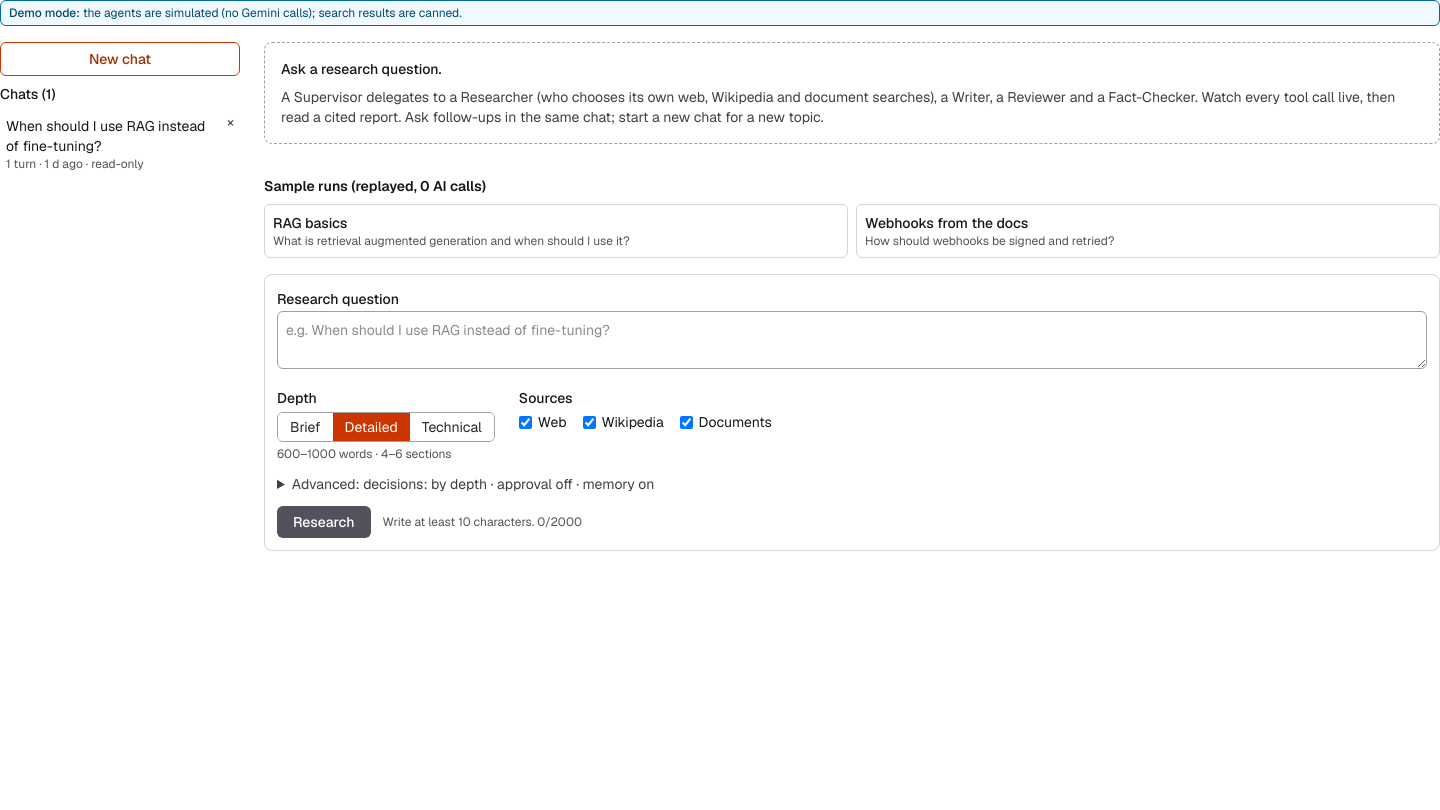
Test: chats › v2 history is imported as read-only chats; a question there starts a new chat
expect the heading "Chats (1)" is shown: met, box [0, 85, 56, 103]
expect the text "1 turn · 1 d ago · read-only" is shown: met, box [6, 156, 144, 172]
Click the link "When should I use RAG". click: (106, 126)
box: [0, 112, 217, 176]
(page scrolled)
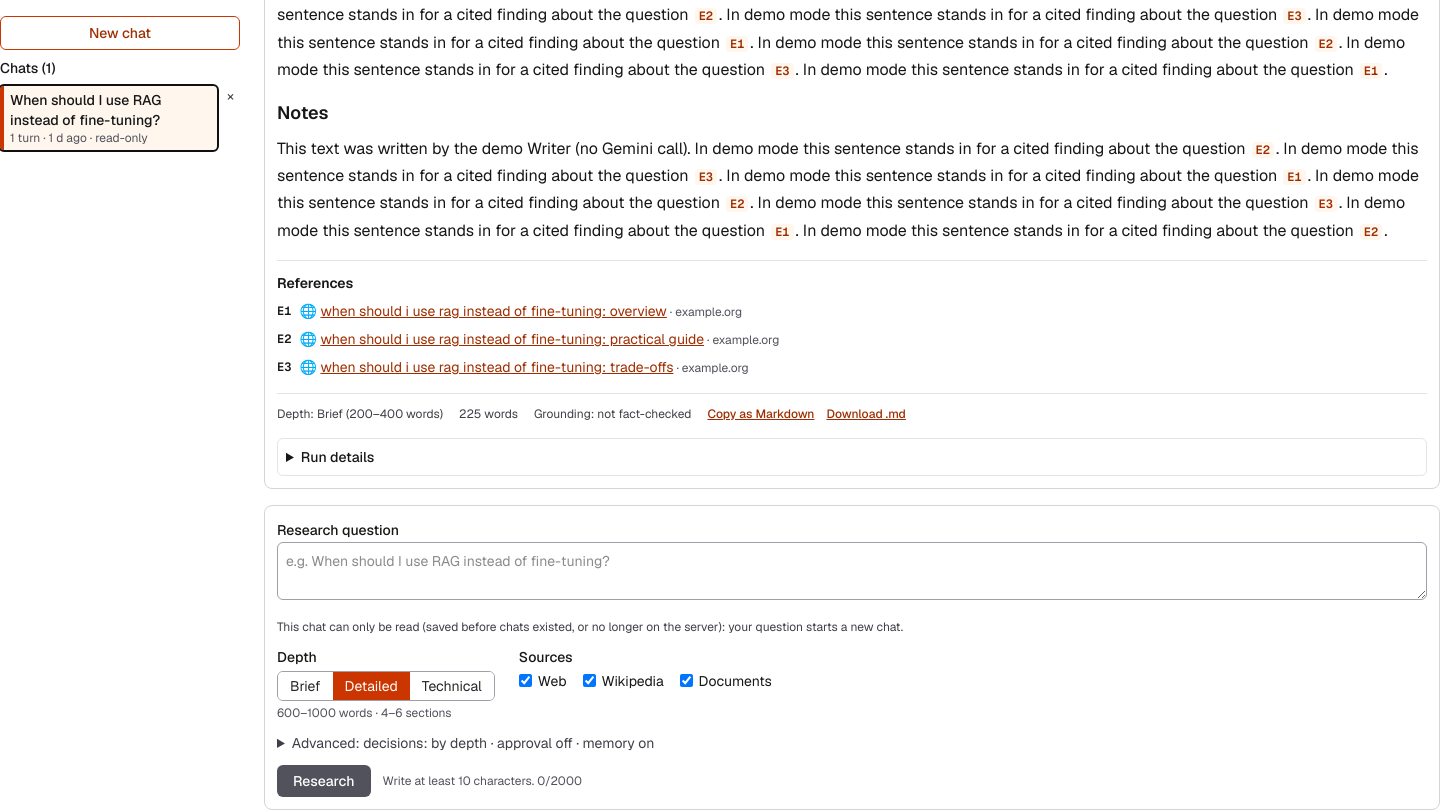
expect the text "your question starts a new chat" is shown: met, box [277, 619, 903, 635]
Type "What does retrieval cost?" into the text box labelled "Research question". click: (852, 571)
box: [277, 542, 1427, 600]
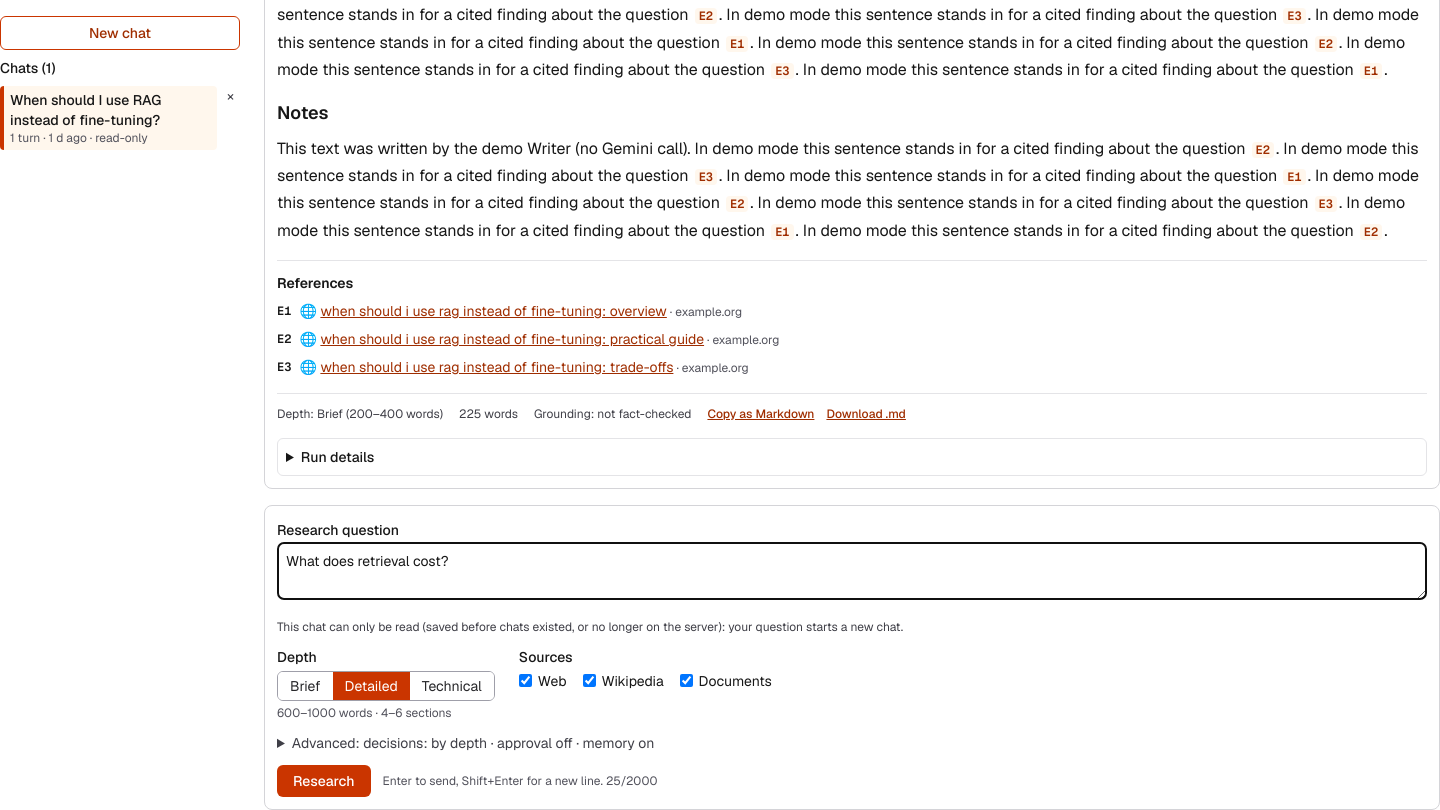
Click the button "Research". click: (324, 781)
box: [277, 765, 371, 797]
(page scrolled)
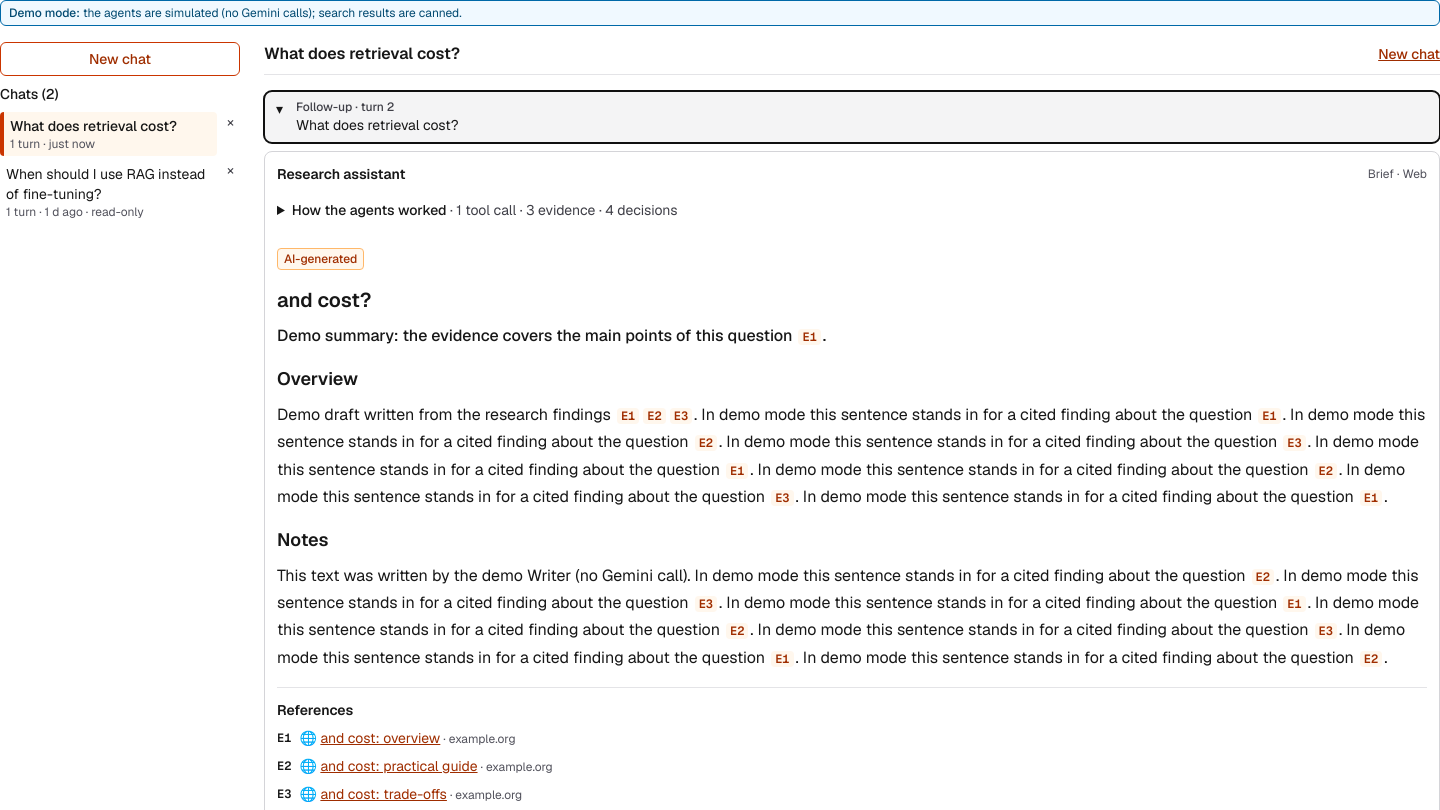
expect the heading "Chats (2)" is shown: met, box [0, 85, 59, 103]
